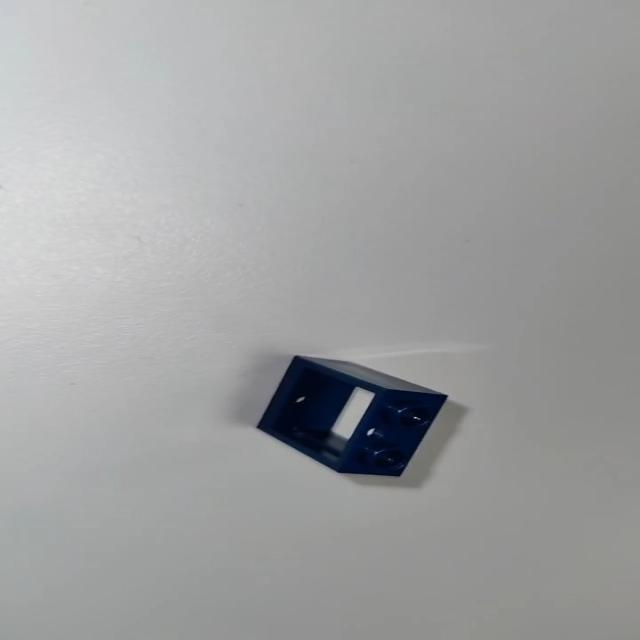W2x1x2: (256, 348, 454, 477)
